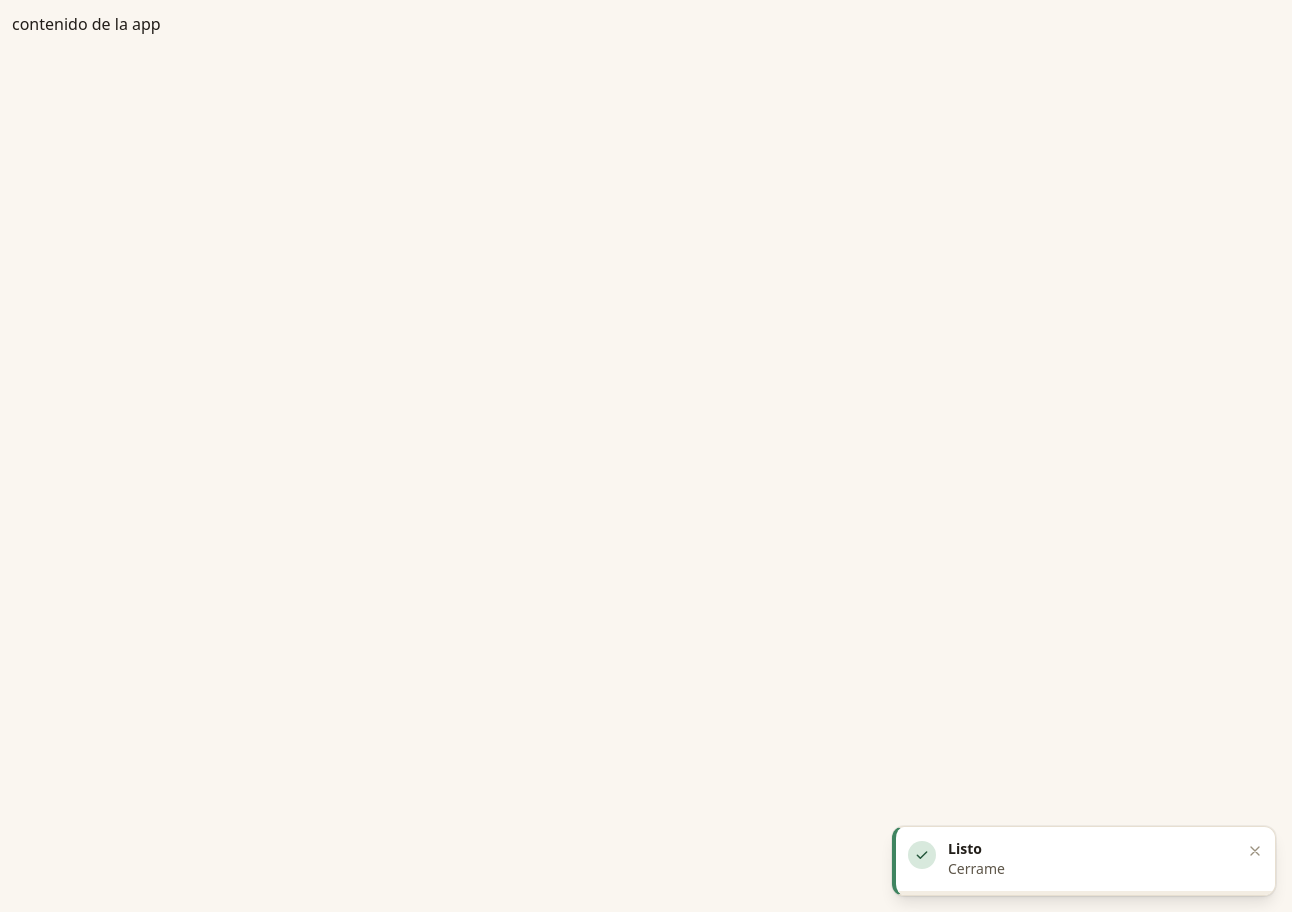
Test: ProveedorAvisos › cierra un aviso con su botón
Click the button named "Cerrar notificación": click(1255, 851) [1243,839,1267,863]
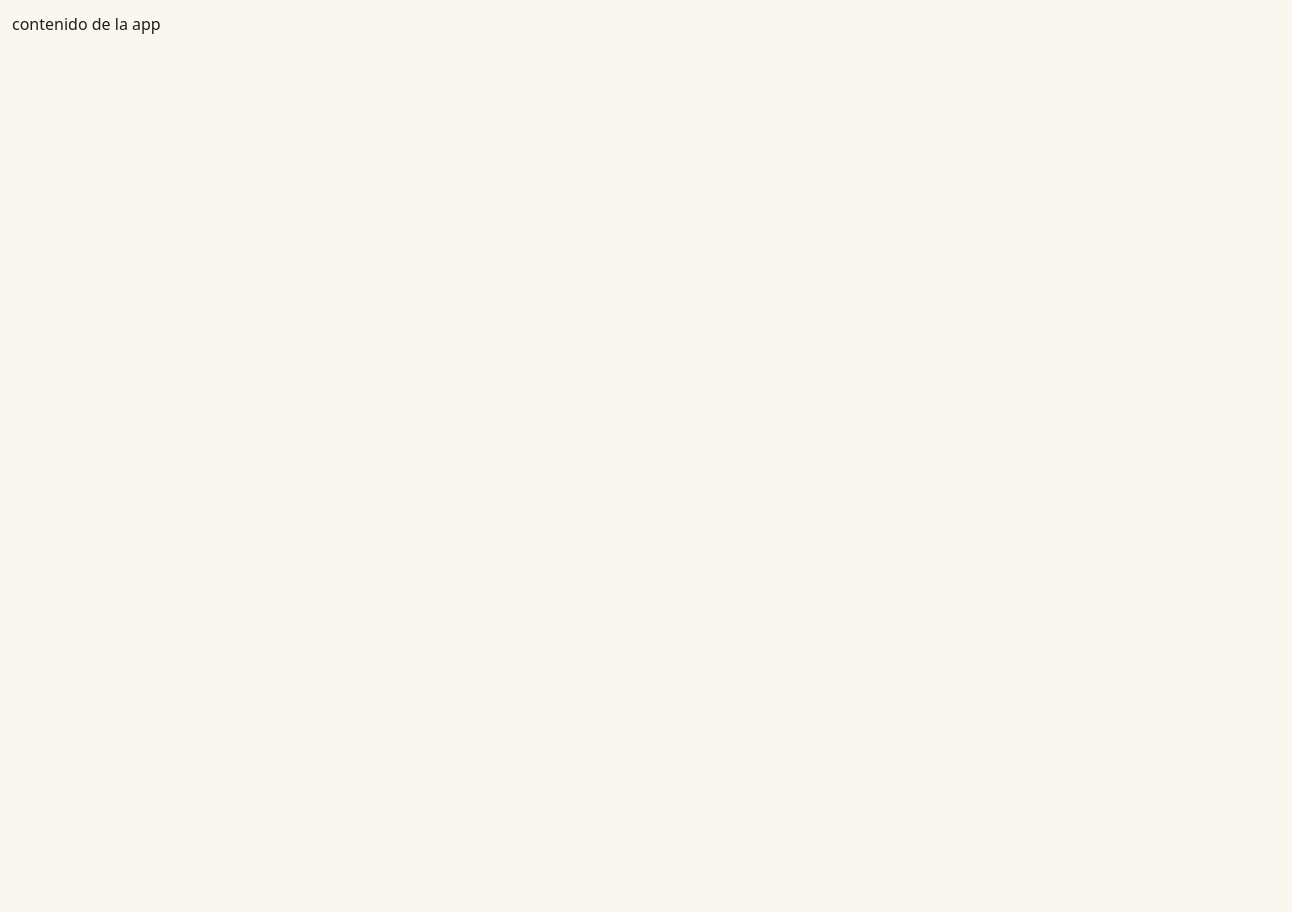
Now the text "Cerrame" is gone
